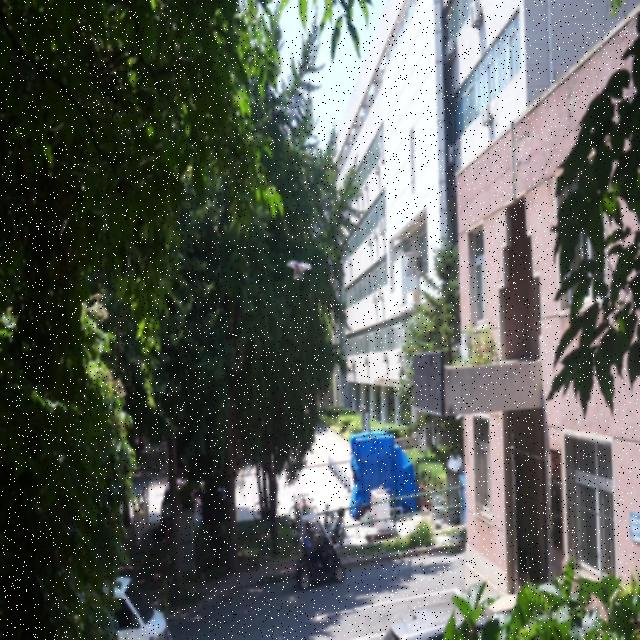UAV: (286, 260, 312, 280)
